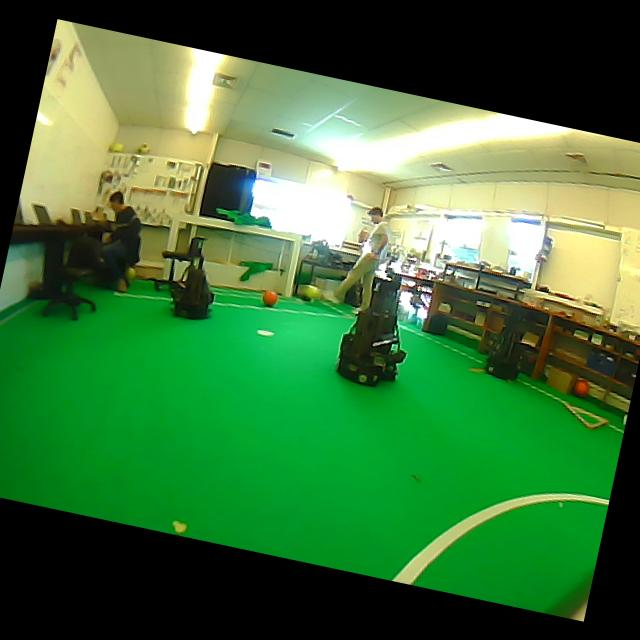ball: (300, 284, 319, 300), (573, 378, 588, 397), (262, 290, 277, 305), (124, 266, 135, 286), (136, 143, 150, 154), (109, 142, 123, 152)
goal: (283, 235, 301, 297)
robot: (336, 278, 405, 385), (171, 237, 212, 318), (485, 315, 521, 379)
